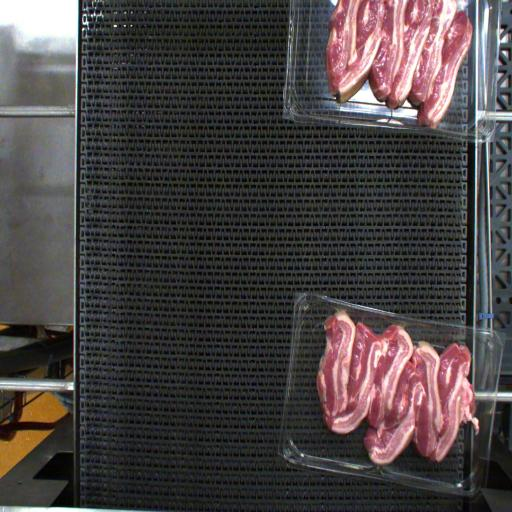packaging-error: (332, 305, 354, 316), (389, 316, 409, 328)
